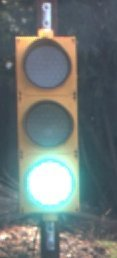Green: (6, 23, 81, 227)
